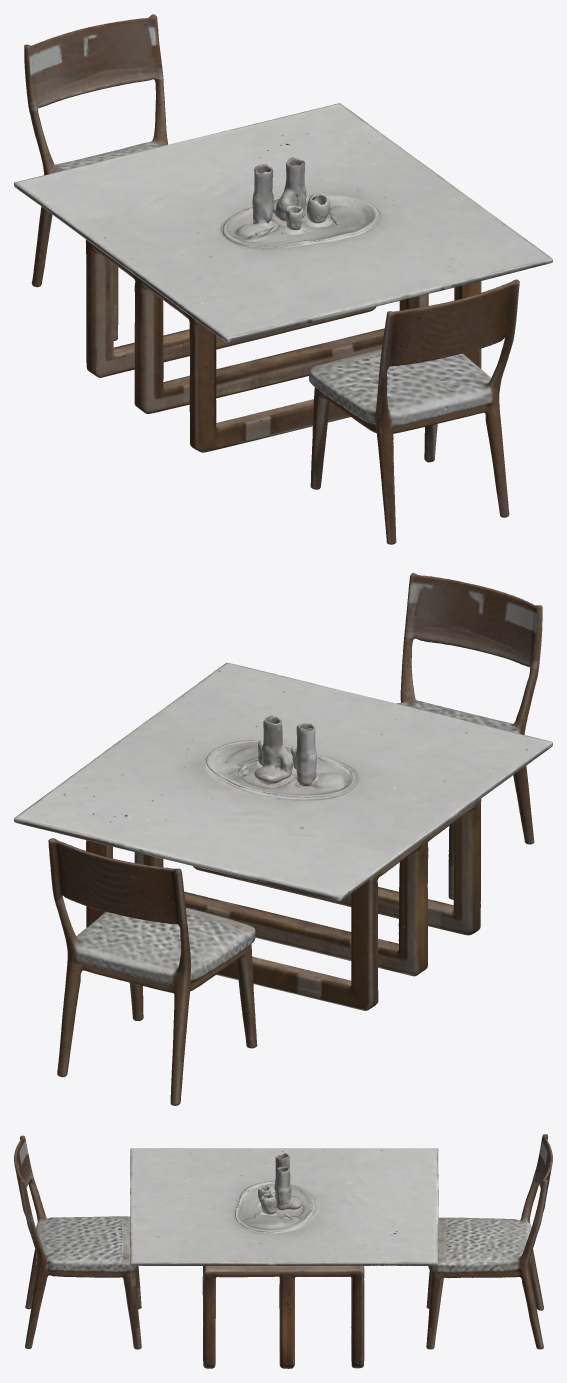
The model's file is glass_dining_table.glb.
The picture shows the model from 3 angles, top to bottom: view 1: azimuth 30°, elevation 25°; view 2: azimuth 150°, elevation 25°; view 3: azimuth 270°, elevation 25°; orthographic projection. The views are drawn at different scales.
Parts seen in each view (by area): view 1: Mesh_0; view 2: Mesh_0; view 3: Mesh_0.
Boxes of the visible parts, x1,y1,x2,y2 form: Mesh_0: (14,14,552,544); Mesh_0: (14,573,552,1105); Mesh_0: (14,1134,552,1368).
Size of the model in its own units: 1.43 by 1 by 2.82.
Materials: 1 (1 with a texture image).
